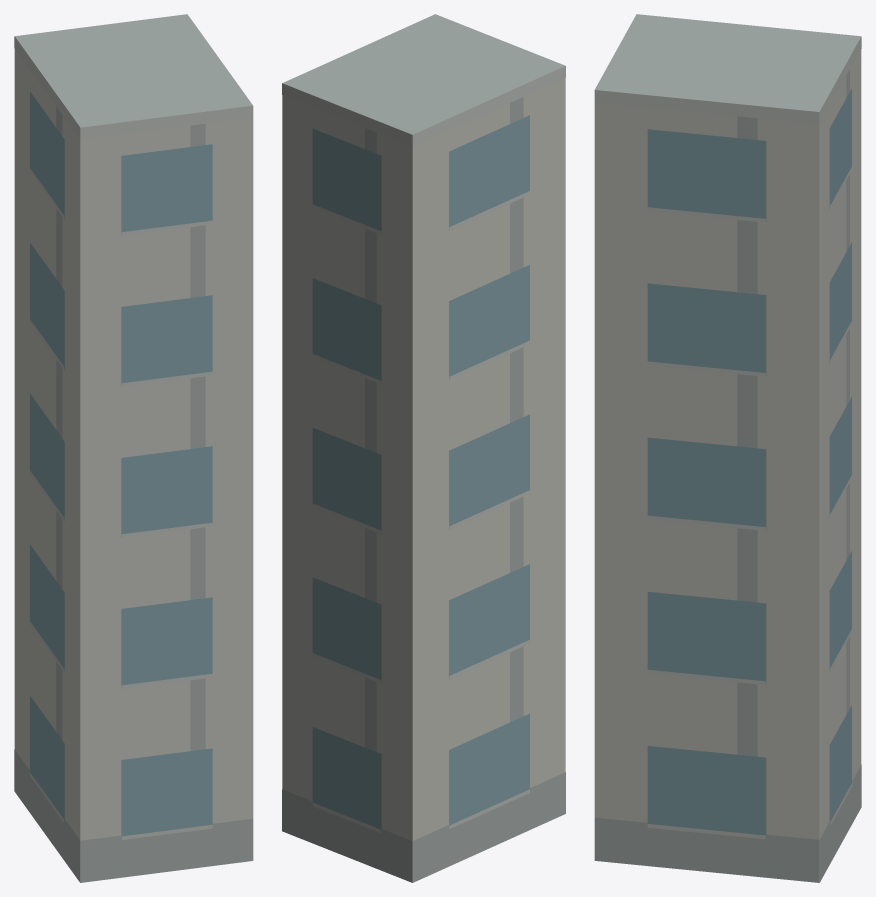
File: survey-upis-32841698.glb
The picture shows the model from 3 angles, left to right: view 1: azimuth 30°, elevation 25°; view 2: azimuth 150°, elevation 25°; view 3: azimuth 270°, elevation 25°; orthographic projection. The views are drawn at different scales.
Parts seen in each view (by area): view 1: survey-upis-32841698.tmp; view 2: survey-upis-32841698.tmp; view 3: survey-upis-32841698.tmp.
Boxes of the visible parts, <box> form: survey-upis-32841698.tmp: <box>14,14,253,882</box>; survey-upis-32841698.tmp: <box>282,14,565,882</box>; survey-upis-32841698.tmp: <box>594,14,861,882</box>.
Size of the model in its own units: 4.17 by 15.25 by 4.8.
